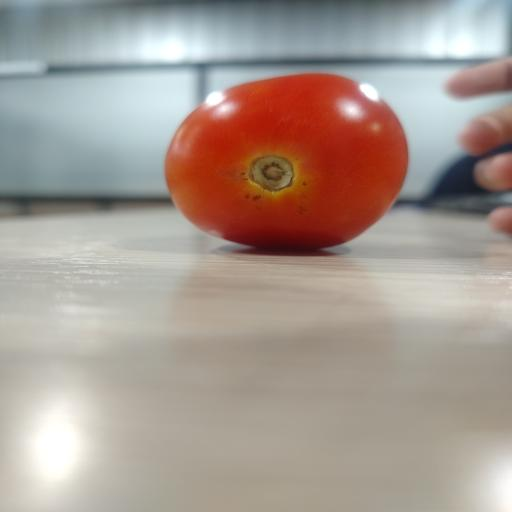ripe: (165, 74, 408, 249)
